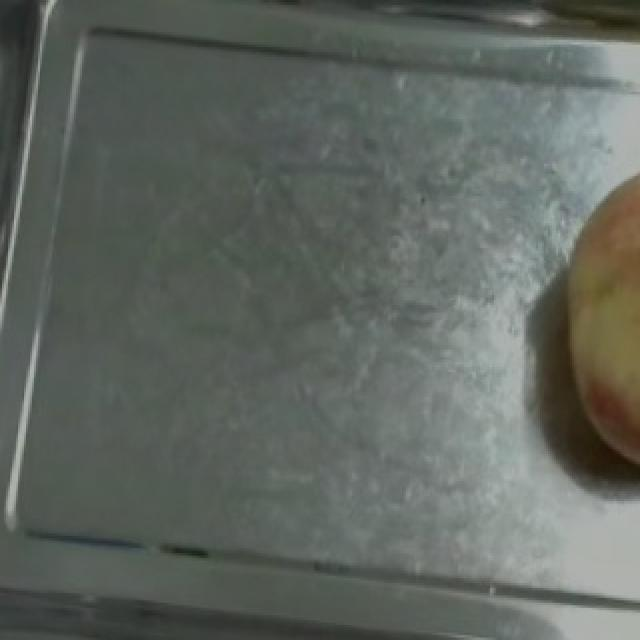Fruit: (546, 158, 640, 488)
